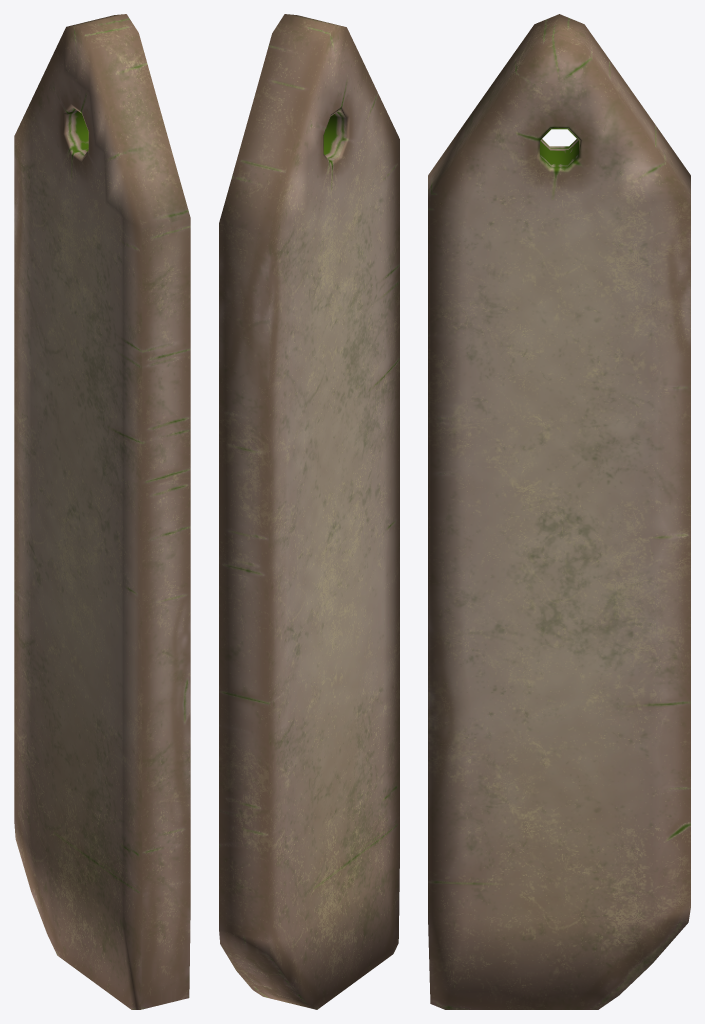
The model's file is Rune04_low_01.fbx.
3 views of the same model, side by side, from view 1: azimuth 30°, elevation 25°; view 2: azimuth 150°, elevation 25°; view 3: azimuth 270°, elevation 25° (orthographic). The views are drawn at different scales.
Visible parts, largest first — view 1: Rune04_low1; view 2: Rune04_low1; view 3: Rune04_low1.
Part boxes in pixels (x1,y1,x2,y2): Rune04_low1: (14, 14, 190, 1009); Rune04_low1: (219, 14, 399, 1009); Rune04_low1: (428, 14, 690, 1009).
Bounding box in the file's own units: 0.7 × 11.99 × 2.94.
1 material, 1 textured.
